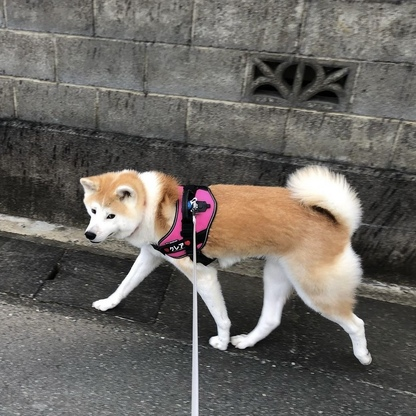akita: (72, 153, 380, 373)
